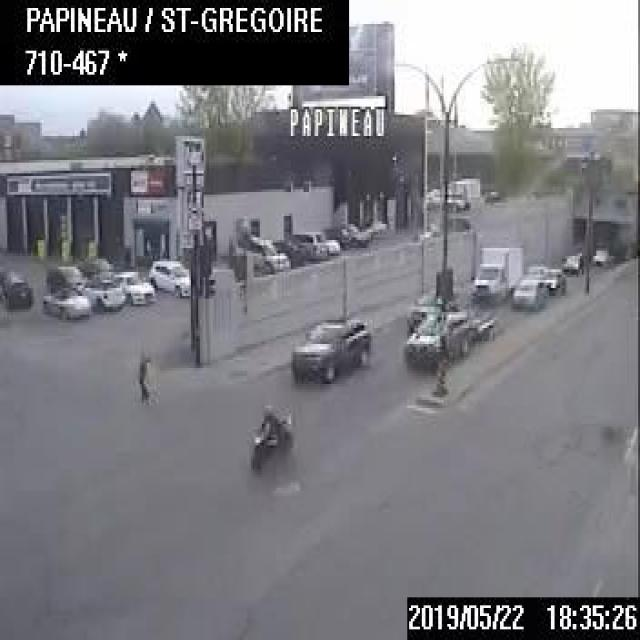pedestrian: (134, 349, 152, 404)
vehicle: (287, 312, 373, 384), (400, 302, 469, 369), (469, 237, 524, 307), (244, 403, 291, 472), (233, 228, 289, 275), (144, 252, 189, 297), (40, 282, 89, 322), (0, 264, 35, 312), (282, 224, 326, 262), (112, 264, 153, 304), (83, 274, 124, 310), (509, 274, 548, 310), (43, 262, 88, 286), (542, 265, 567, 293), (78, 256, 112, 276), (559, 250, 583, 274)
